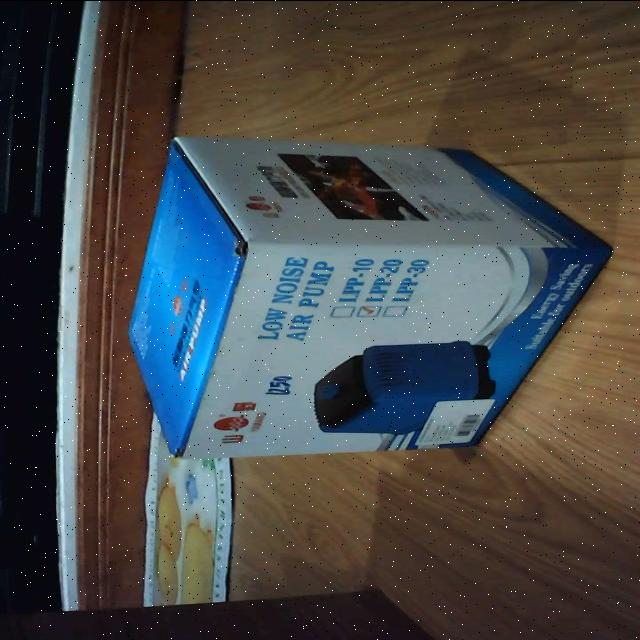YAMANO_LPP_20: (117, 131, 623, 465)
